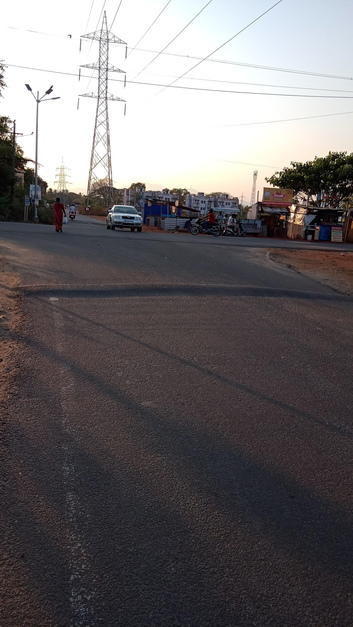bump: (18, 281, 353, 300)
